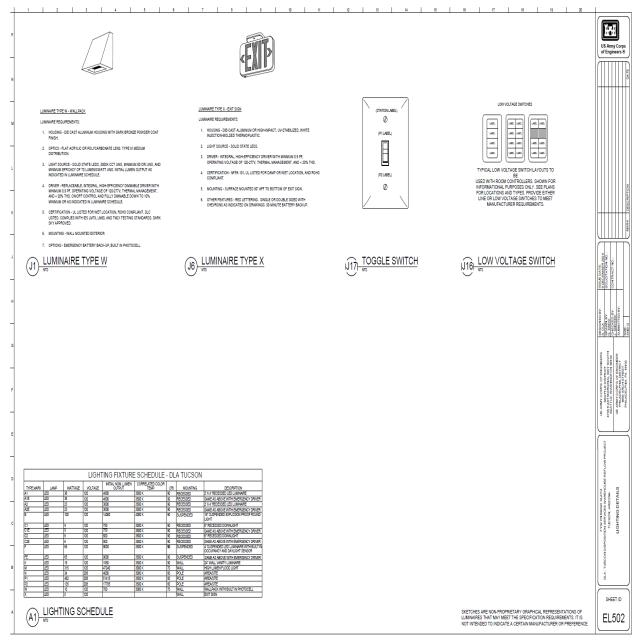Emergency Light: (222, 34, 310, 91), (70, 27, 136, 86)
